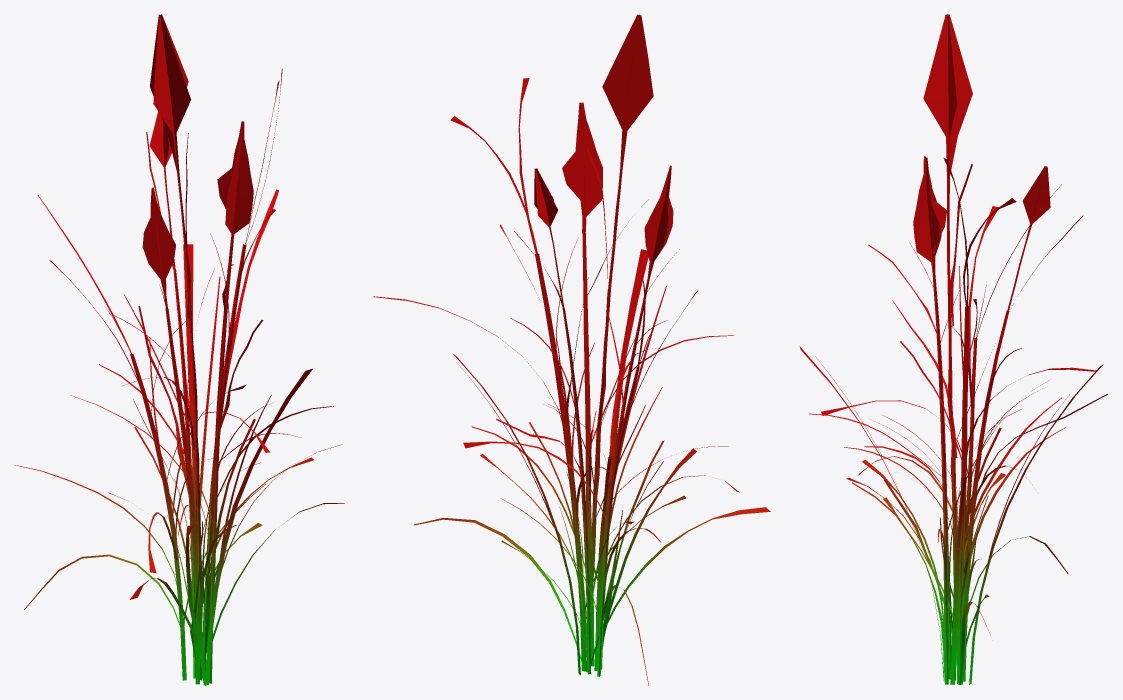
File: Rough Meadow Grass_LOD1_Var1_skFjJ.fbx
3 renders of one model, left to right at view 1: azimuth 30°, elevation 25°; view 2: azimuth 150°, elevation 25°; view 3: azimuth 270°, elevation 25°, orthographic. The views are drawn at different scales.
Visible parts, largest first — view 1: _dd98_Var1_LOD1; view 2: _dd98_Var1_LOD1; view 3: _dd98_Var1_LOD1.
Part boxes in pixels (x1=…): _dd98_Var1_LOD1: x1=14, y1=14, x2=344, y2=685; _dd98_Var1_LOD1: x1=373, y1=14, x2=770, y2=685; _dd98_Var1_LOD1: x1=799, y1=14, x2=1107, y2=685.
Bounding box in the file's own units: 56.45 × 125 × 54.16.
